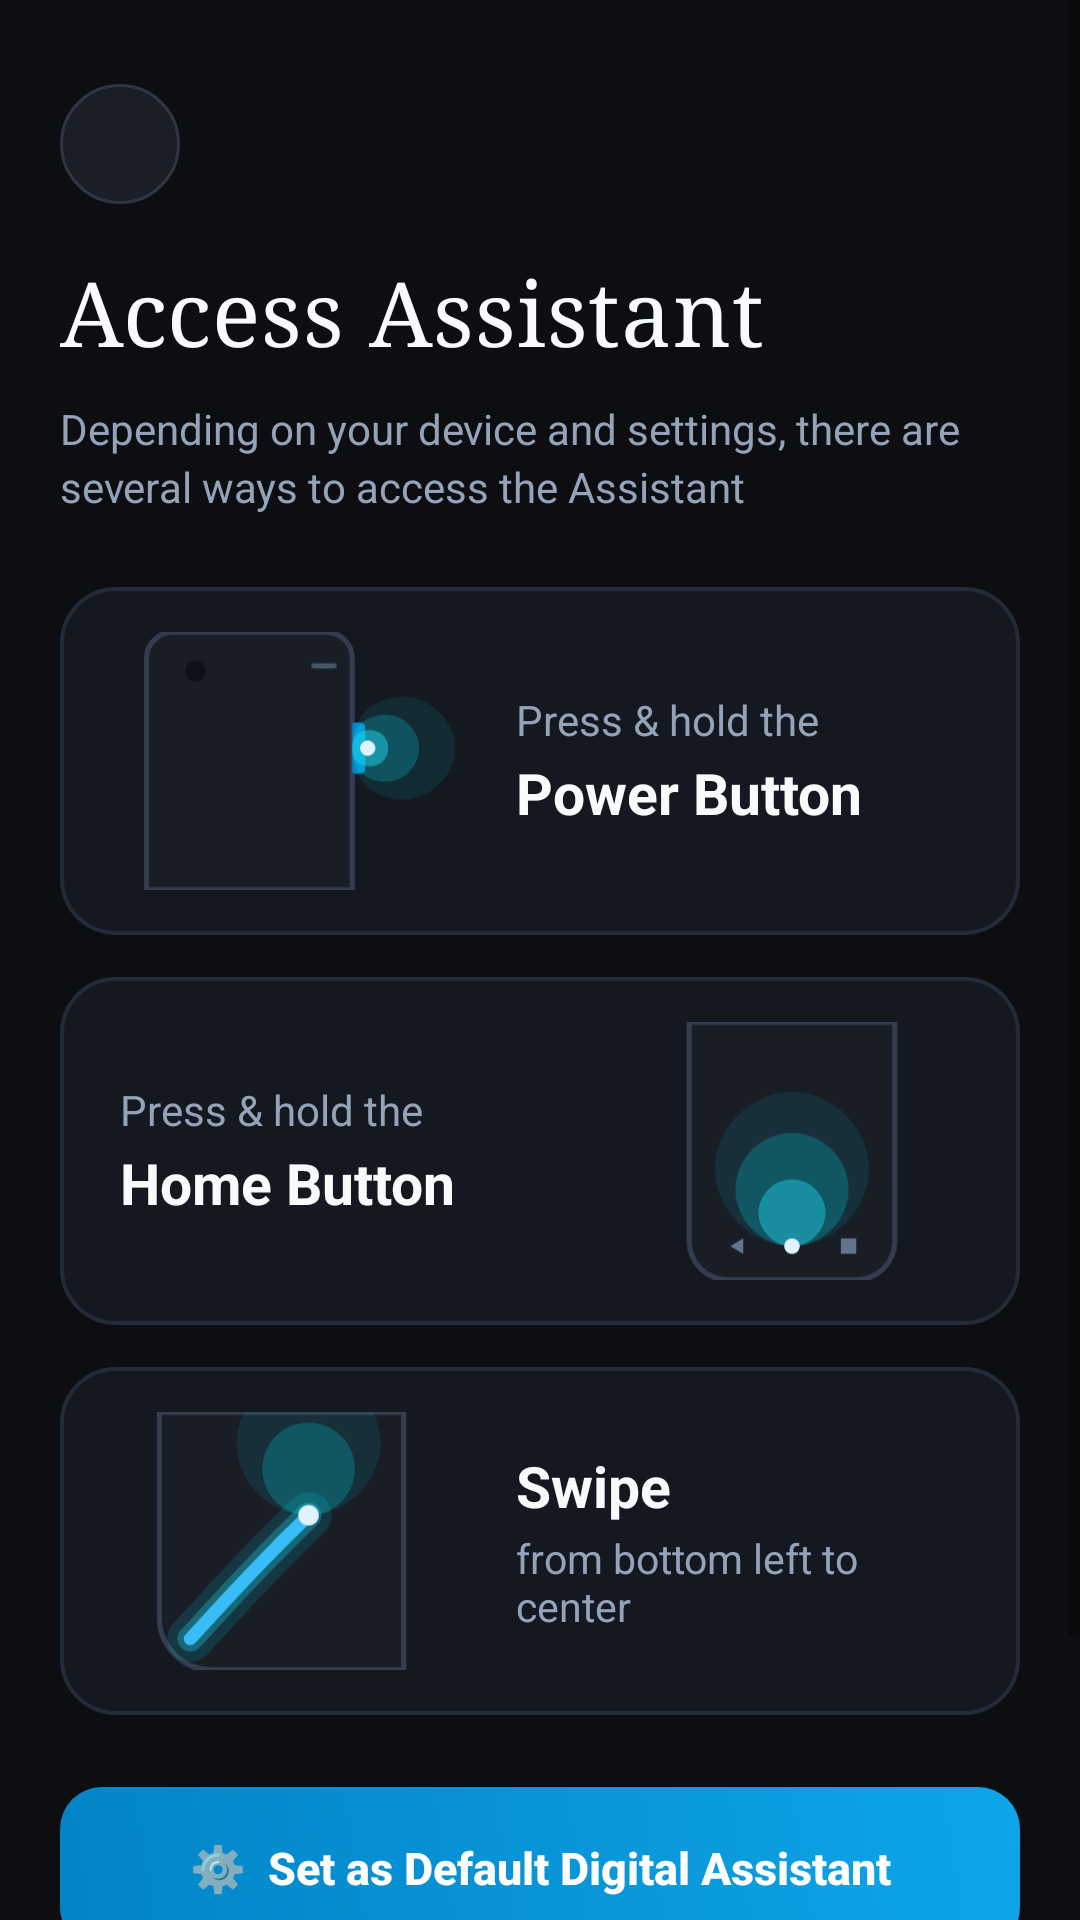

Named icons in this screenshot (1080px×1920px) and their centers, (x,y):
Home Button Trigger: (792,1151)
